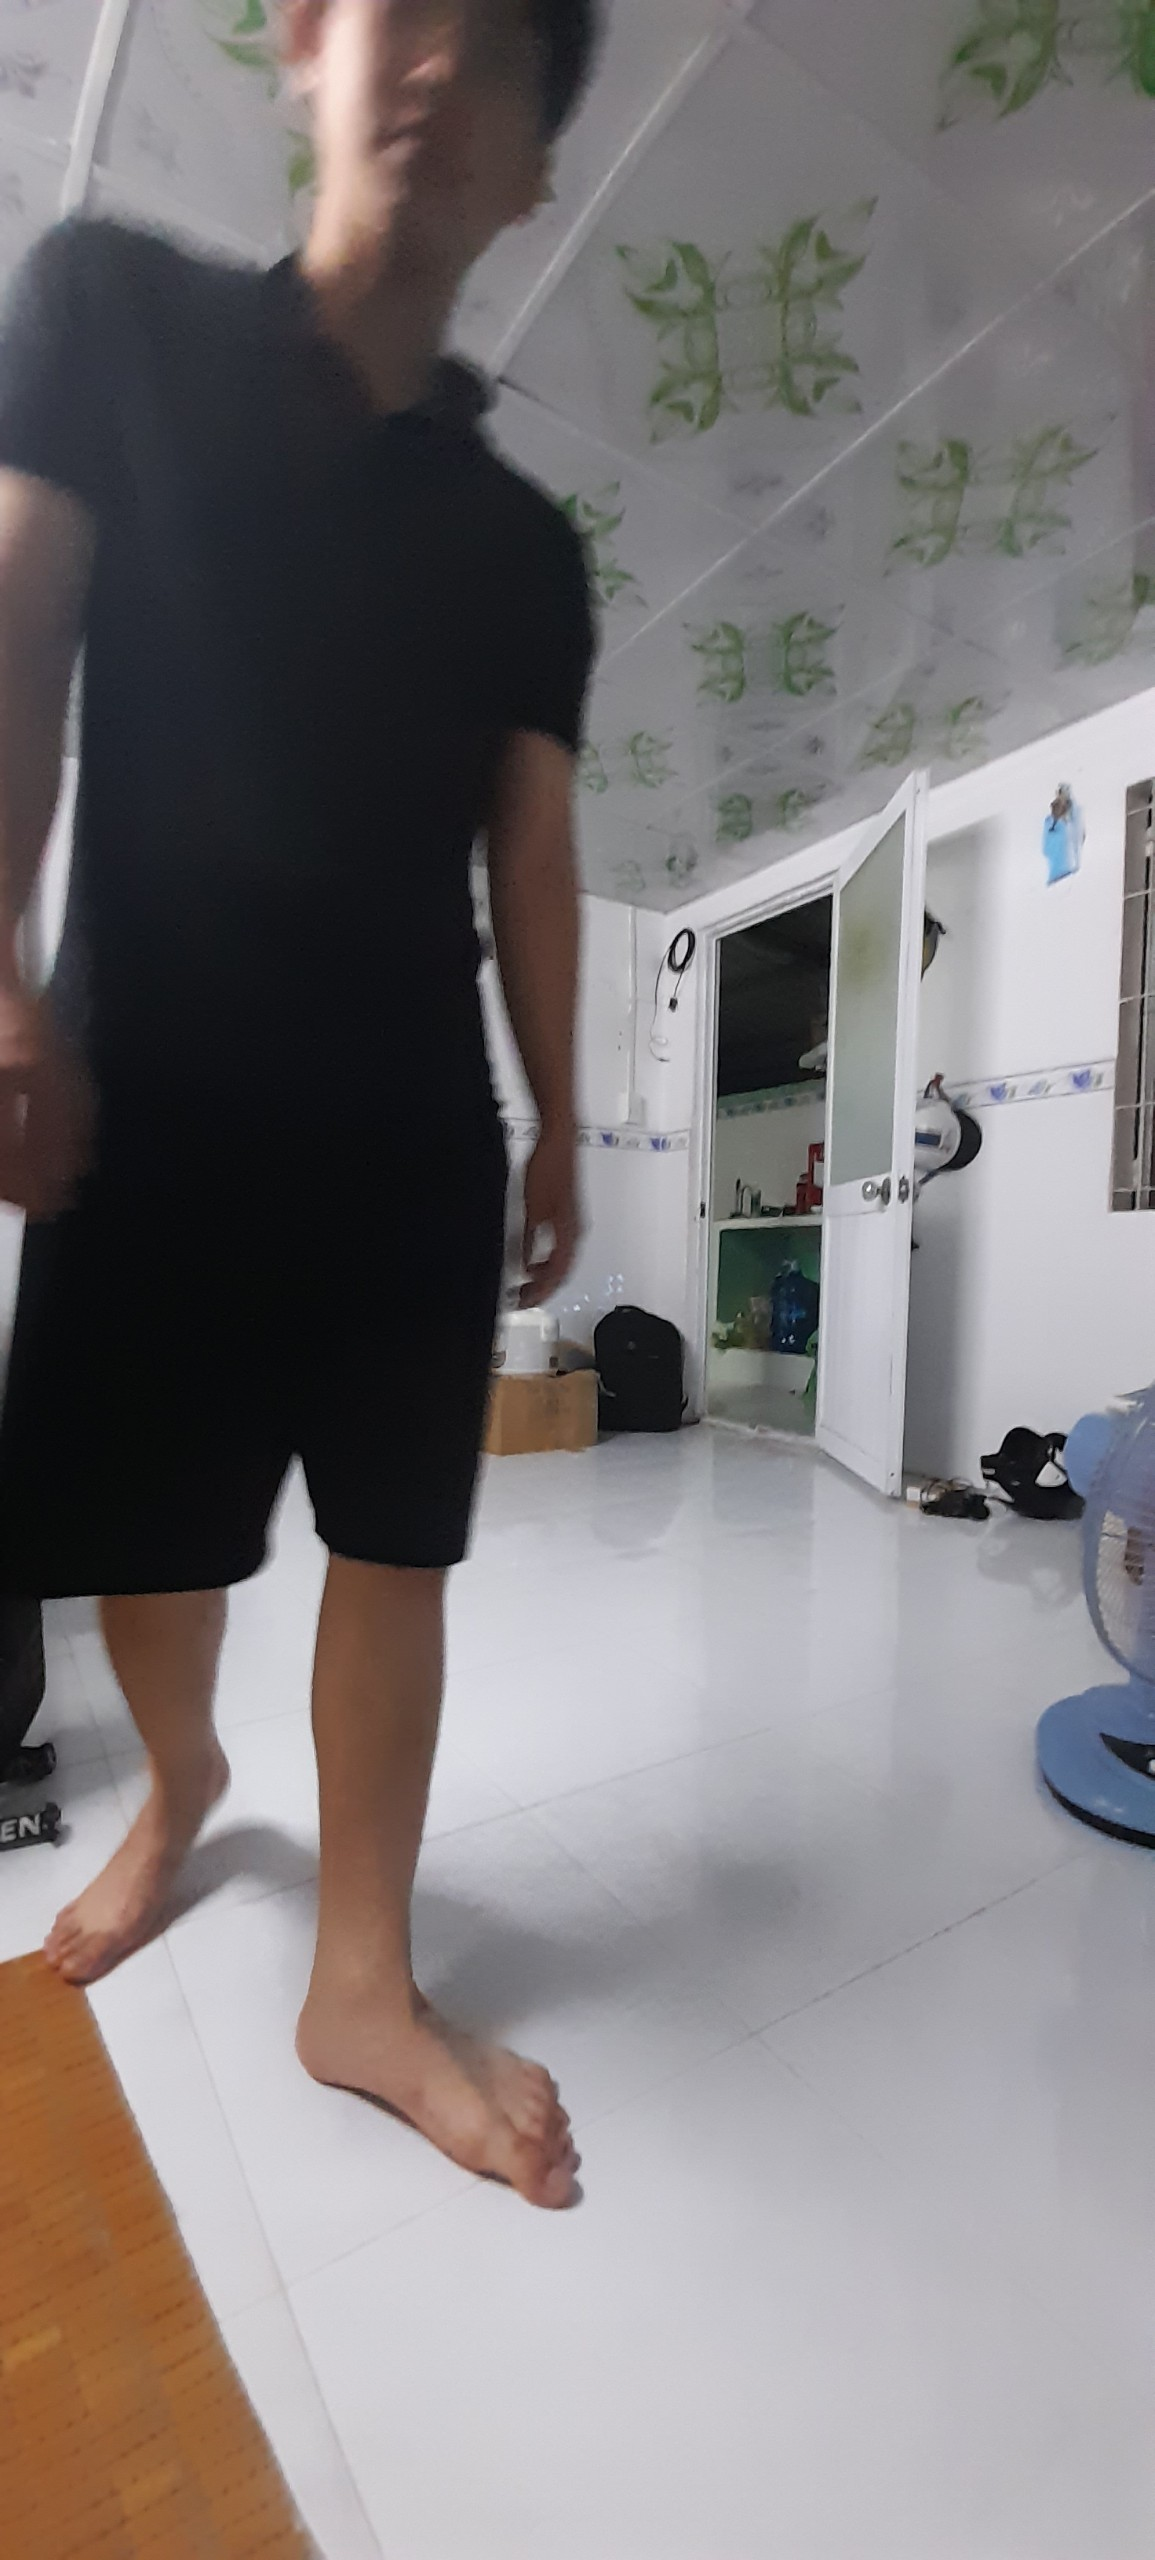person: (10, 1, 616, 2214)
